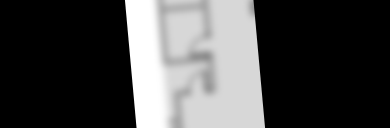door: (186, 34, 213, 60), (186, 69, 210, 98)
